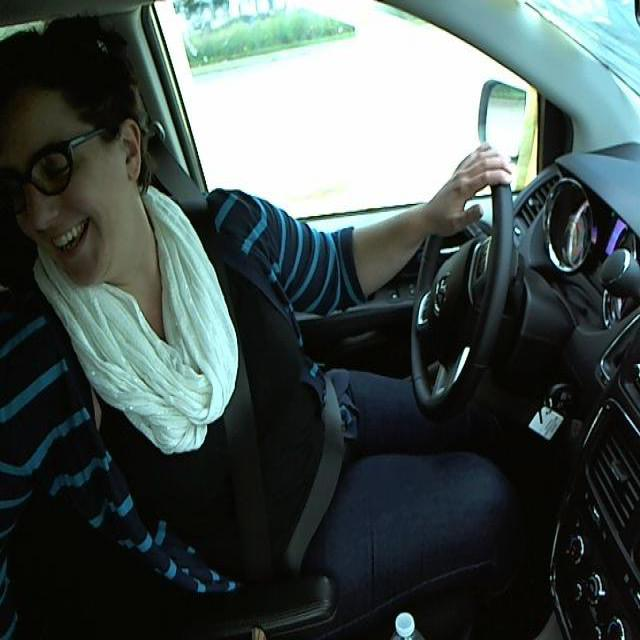seatbelt: (161, 204, 344, 563)
